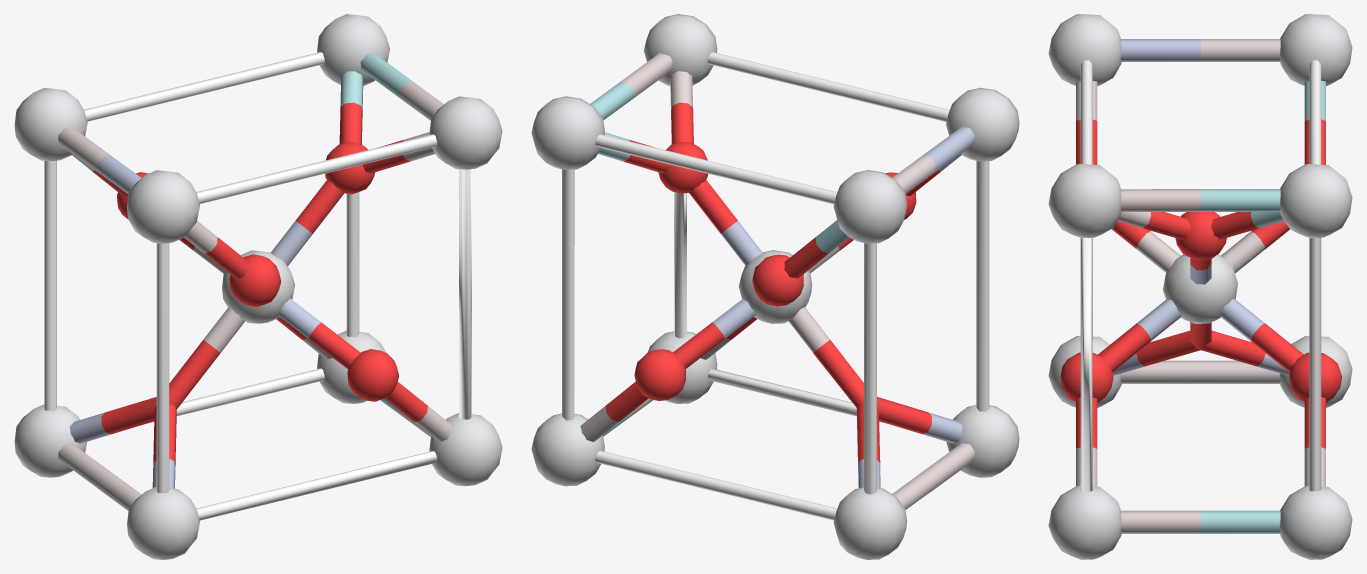
Rendered from Rutilo.fbx.
3 views of the same model, side by side, from view 1: azimuth 30°, elevation 25°; view 2: azimuth 150°, elevation 25°; view 3: azimuth 270°, elevation 25° (orthographic).
Parts seen in each view (by area): view 1: Nb, limite.004, O.001, _28_Cylinder.003, _19_Cylinder.002, _29_Cylinder; view 2: Nb, limite.004, O.001, _28_Cylinder.003, _19_Cylinder.002, _29_Cylinder; view 3: Nb, O.001, _28_Cylinder.003, limite.004, _19_Cylinder.002, _29_Cylinder.
Boxes of the visible parts, x1,y1,x2,y2 form: Nb: (14,14,502,559); limite.004: (44,52,471,520); O.001: (91,102,427,465); _28_Cylinder.003: (58,81,452,510); _19_Cylinder.002: (69,155,320,488); _29_Cylinder: (72,52,412,416); Nb: (531,14,1019,559); limite.004: (562,52,989,520); O.001: (605,102,942,465); _28_Cylinder.003: (580,53,974,509); _19_Cylinder.002: (712,126,974,488); _29_Cylinder: (590,81,849,436); Nb: (1048,14,1352,559); O.001: (1060,119,1342,448); _28_Cylinder.003: (1076,39,1325,533); limite.004: (1080,60,1321,491); _19_Cylinder.002: (1112,39,1289,375); _29_Cylinder: (1201,81,1325,533).
Size of the model in its own units: 556 by 557 by 393.
